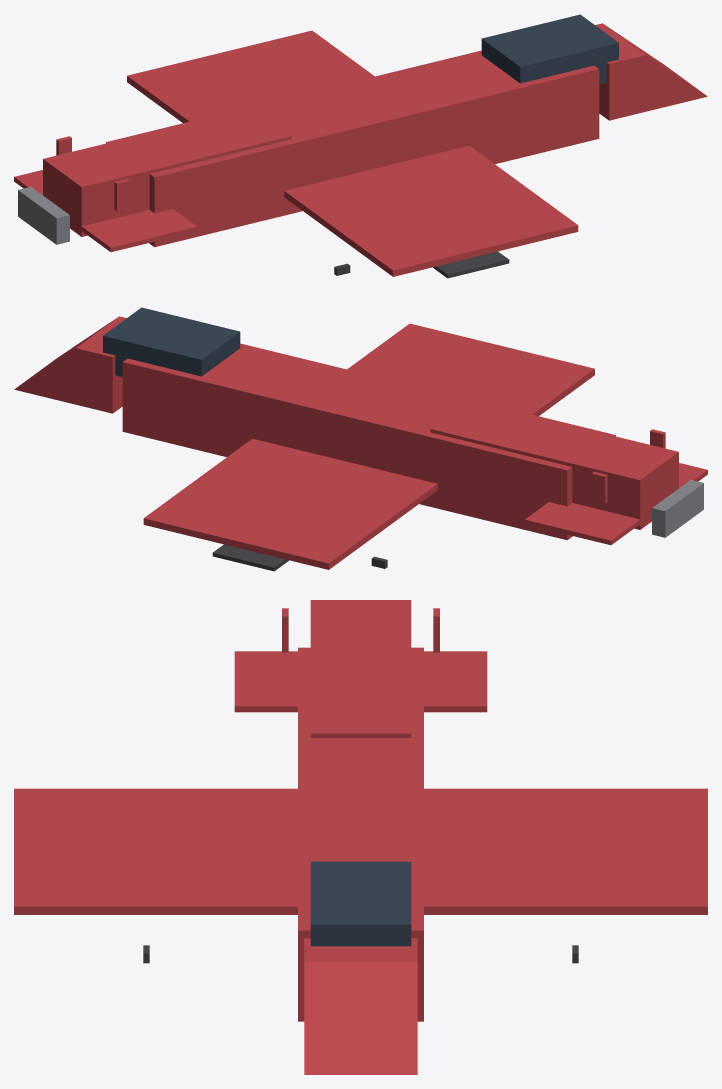
File: SM_Veh_Jet.fbx
3 views of the same model, one above another, from view 1: azimuth 30°, elevation 25°; view 2: azimuth 150°, elevation 25°; view 3: azimuth 270°, elevation 25° (orthographic). The views are drawn at different scales.
Parts seen in each view (by area): view 1: SM_Veh_Jet; view 2: SM_Veh_Jet; view 3: SM_Veh_Jet.
Boxes of the visible parts, bbox=[...] form: SM_Veh_Jet: bbox=[14, 14, 707, 278]; SM_Veh_Jet: bbox=[14, 307, 707, 571]; SM_Veh_Jet: bbox=[14, 600, 707, 1074].
Size of the model in its own units: 1471 by 1045 by 220.
